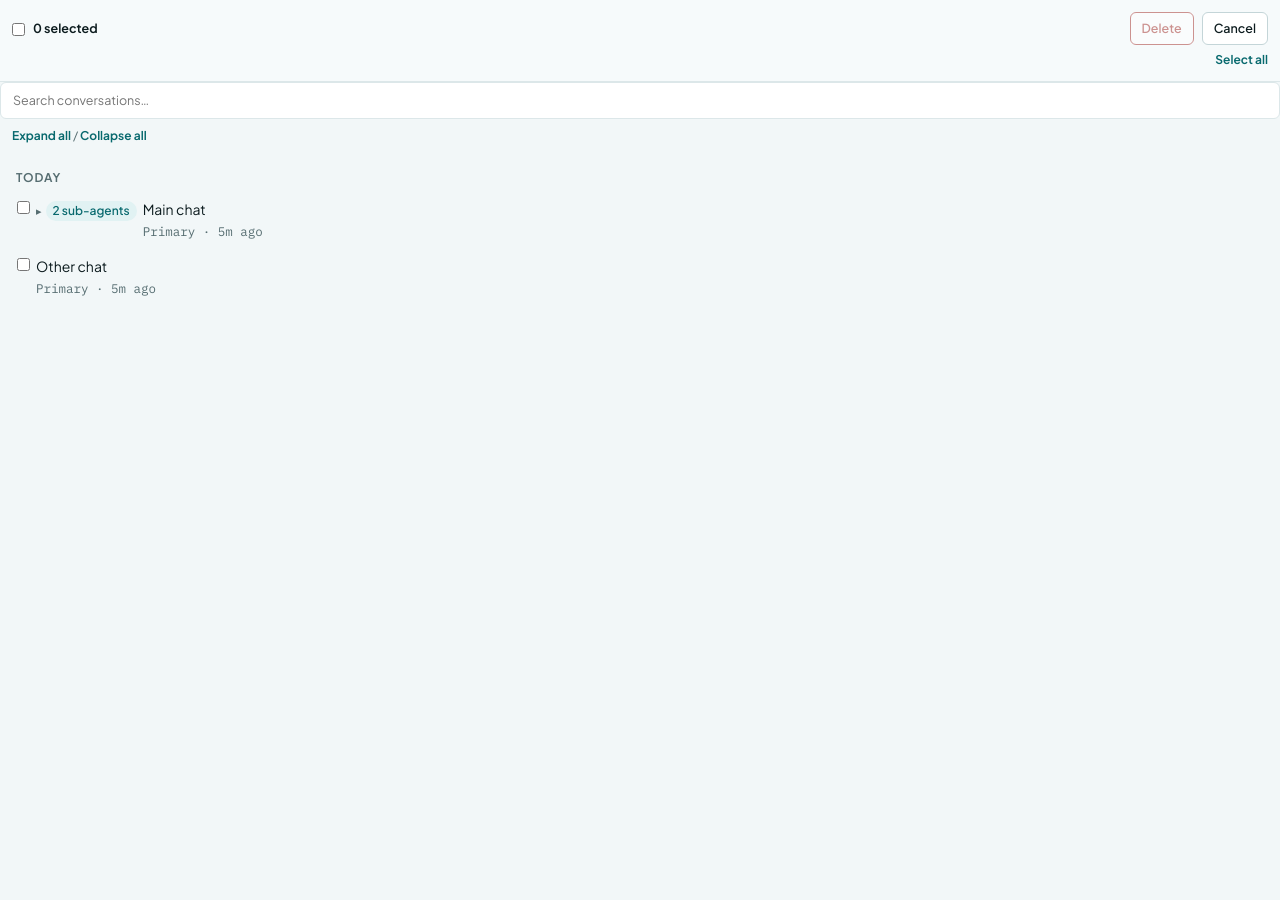
Test case: ConversationList select mode › shows a partial-failure toast
Click the checkbox named "Other chat" at (24, 265), box [17,258,30,271]
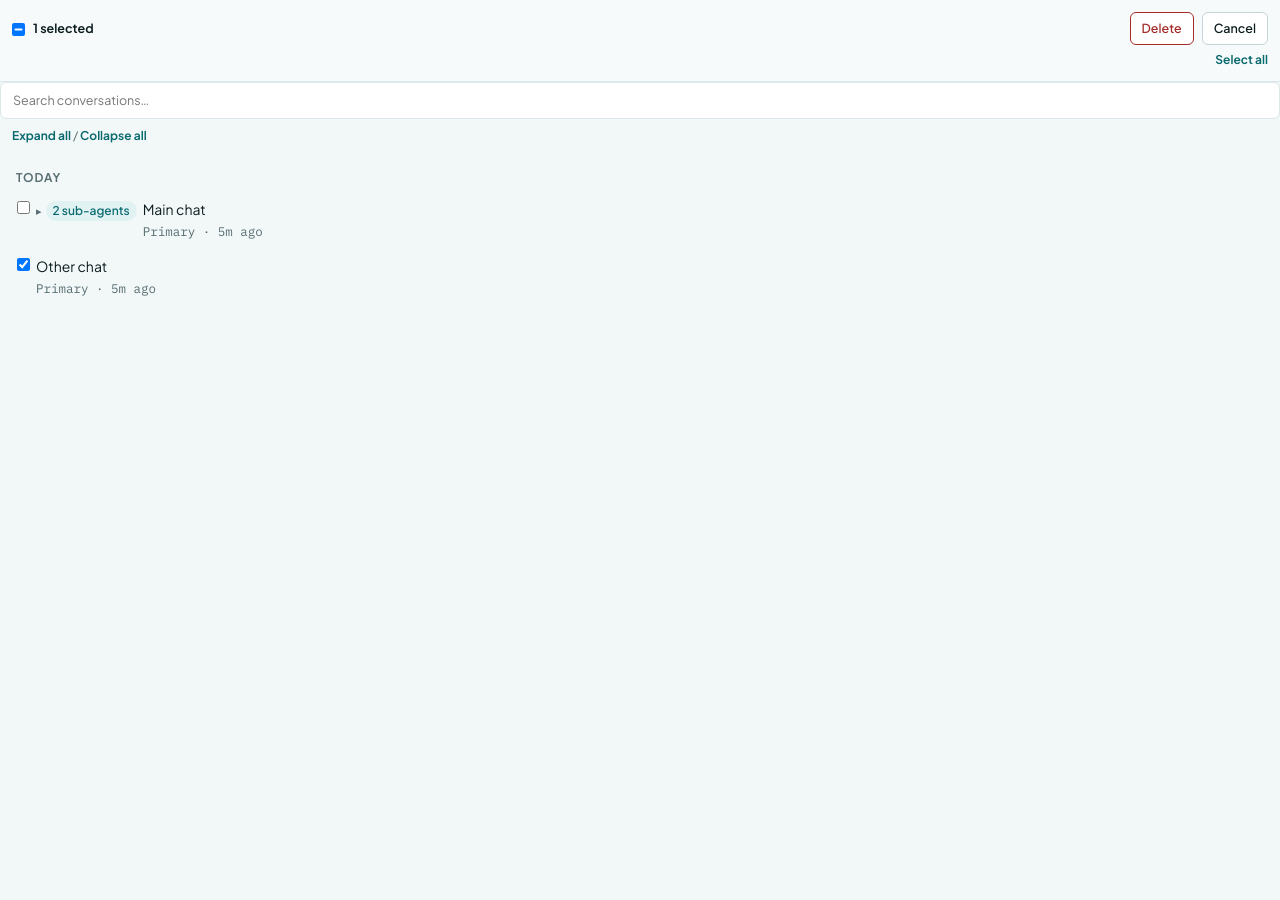
Click the button "Delete" at (1162, 28), box [1130,12,1194,45]
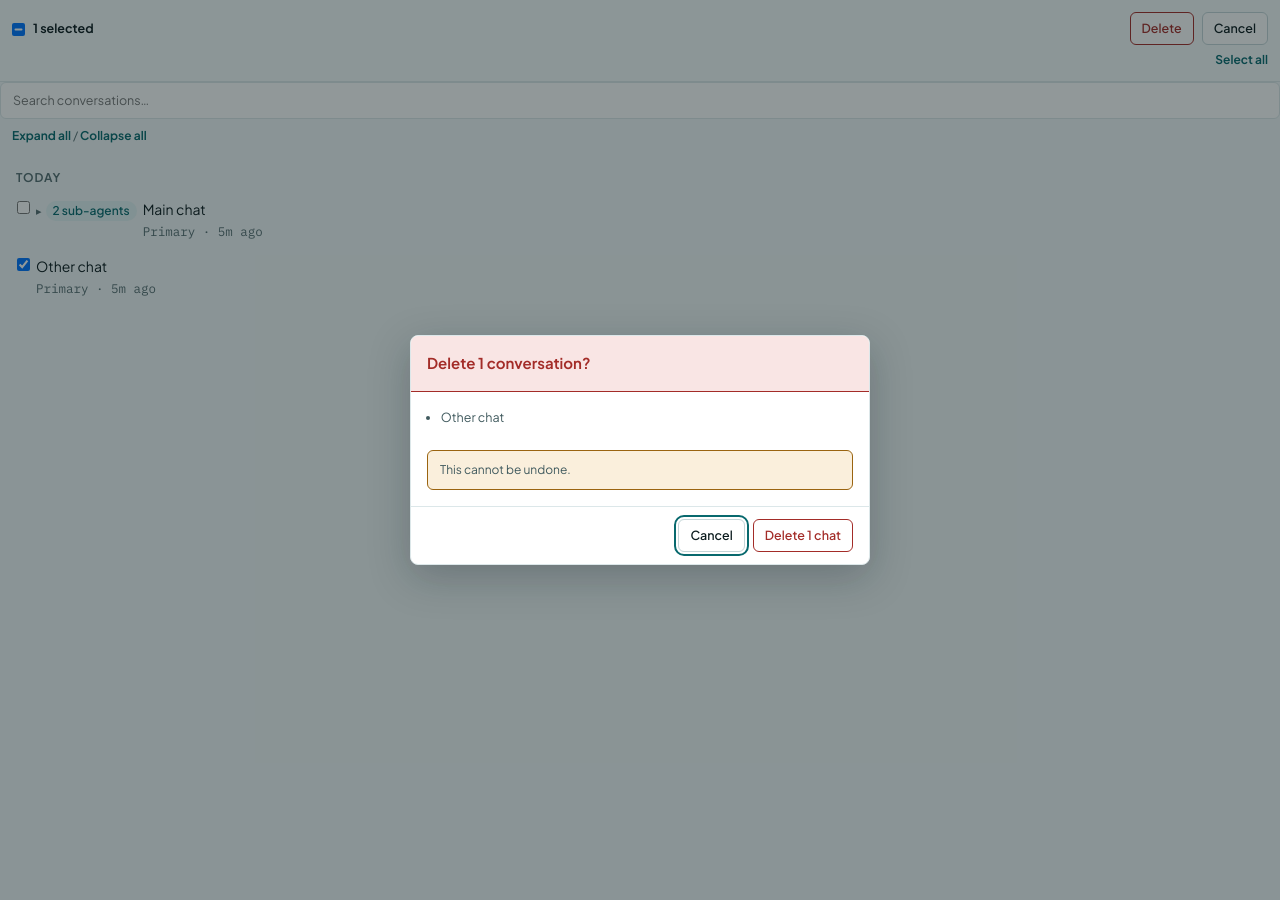
Click the button "Delete 1 chat" at (803, 536), box [753,519,853,552]
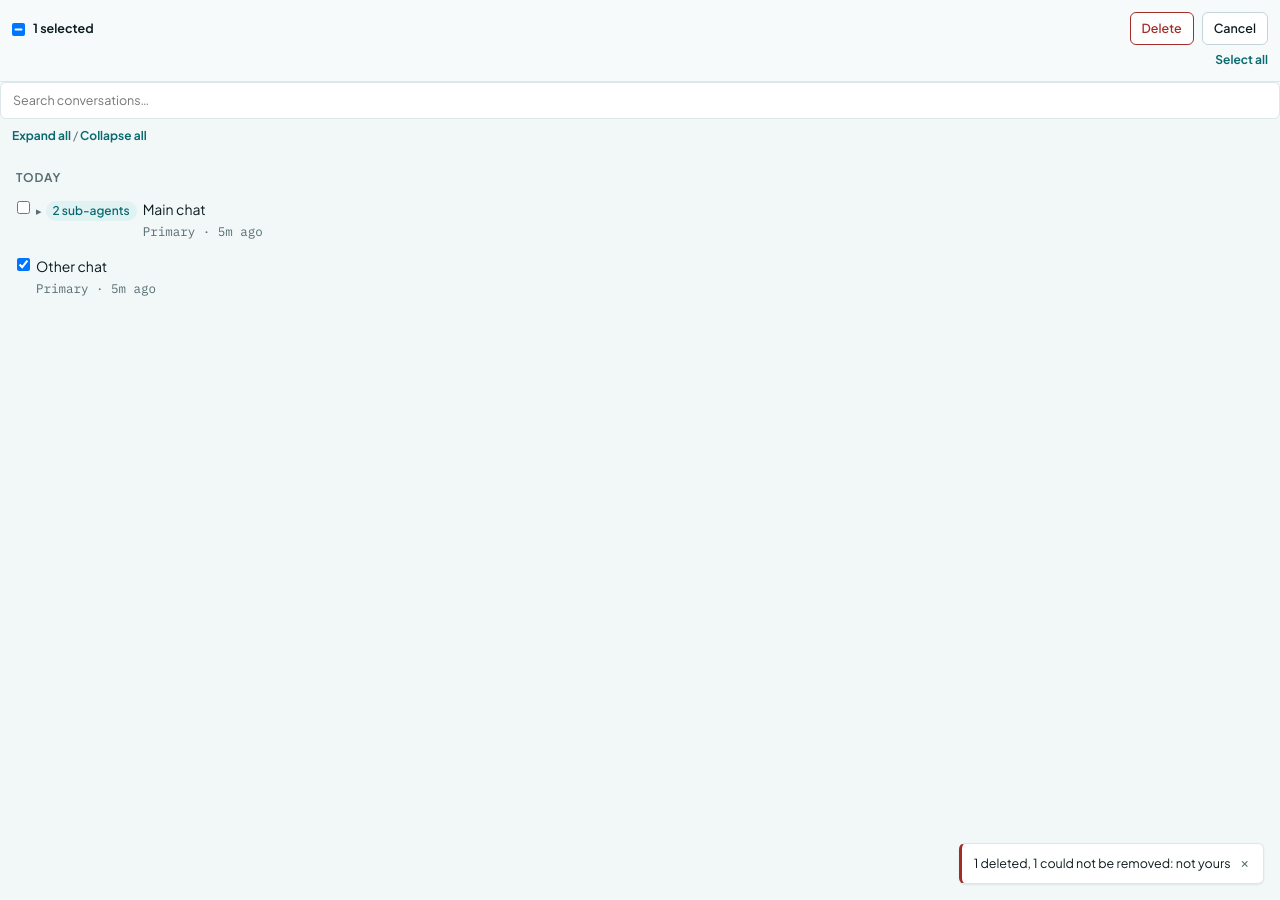
Now the text "1 deleted, 1 could not be removed: not yours" is shown, box [974,854,1231,873]
